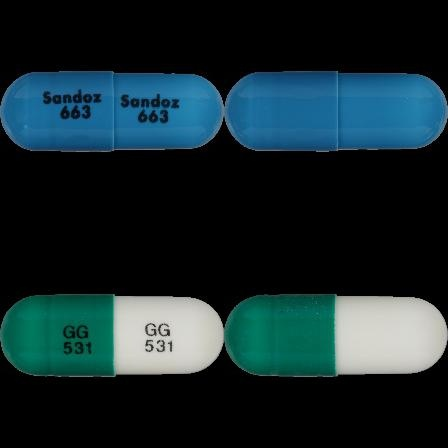0781-2176: (0, 0, 224, 224)
